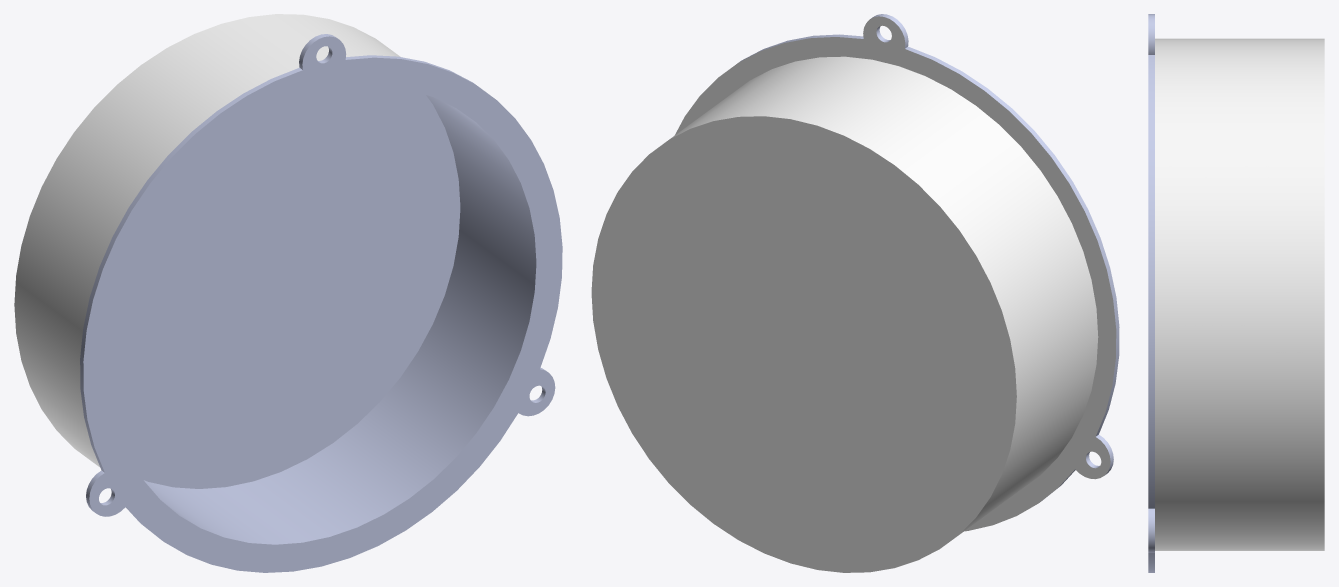
The model's file is 32-41-12-400-001-A Hub cap kit.fbx.
The picture shows the model from 3 angles, left to right: view 1: azimuth 30°, elevation 25°; view 2: azimuth 150°, elevation 25°; view 3: azimuth 270°, elevation 25°; orthographic projection. The views are drawn at different scales.
Visible parts, largest first — view 1: 32-41-12-400-001-A Hub cap kit; view 2: 32-41-12-400-001-A Hub cap kit; view 3: 32-41-12-400-001-A Hub cap kit.
Boxes of the visible parts, x1=… form: 32-41-12-400-001-A Hub cap kit: x1=14, y1=14, x2=562, y2=572; 32-41-12-400-001-A Hub cap kit: x1=591, y1=14, x2=1119, y2=572; 32-41-12-400-001-A Hub cap kit: x1=1148, y1=14, x2=1324, y2=572.
Bounding box in the file's own units: 16.38 × 17.28 × 5.2.
